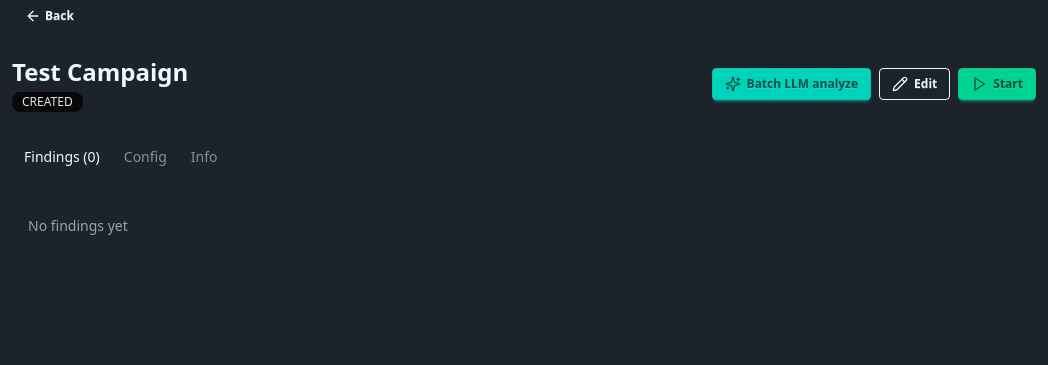
Scenario: CampaignDetailPage › shows recording links on Info tab
Click the tab "Info". click: (204, 156)
box: [179,136,230,176]
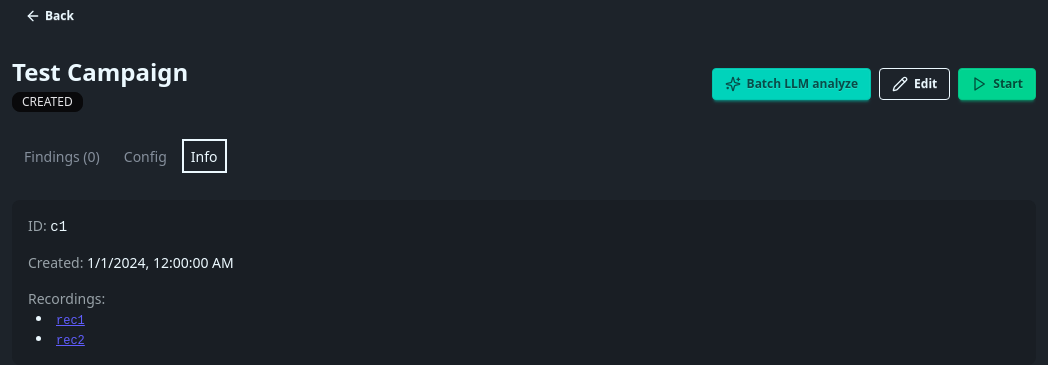
expect the link "rec1" is shown: met, box [56,314,85,328]
expect the link "rec2" is shown: met, box [56,334,85,348]
